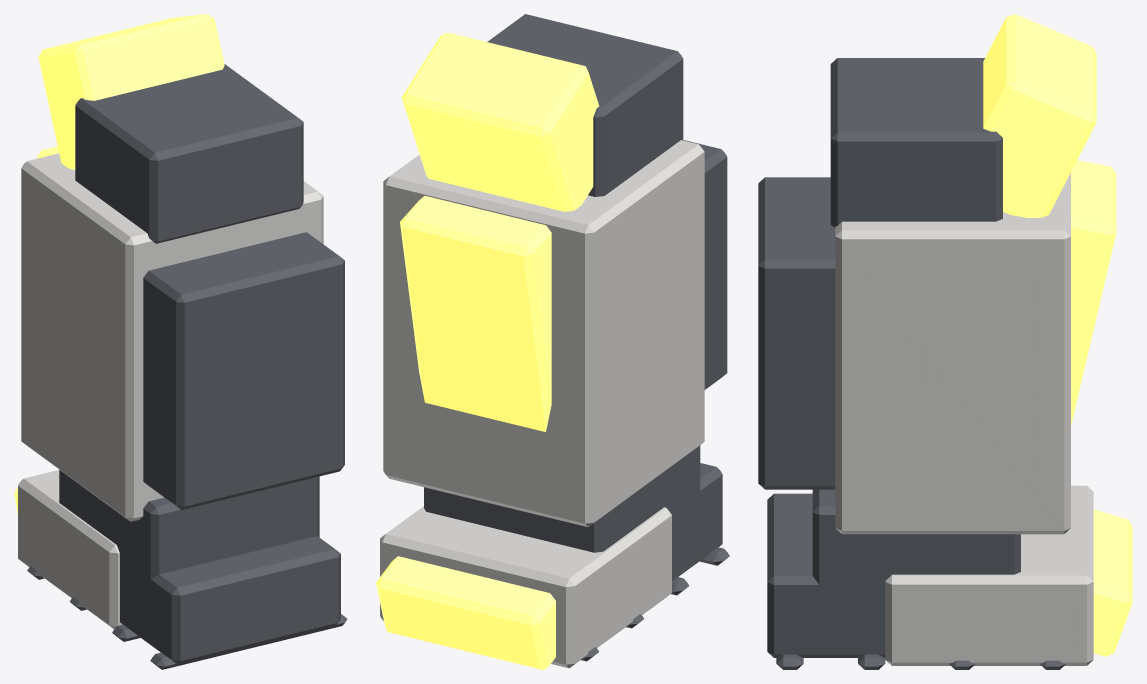
The model's file is tankhead_leg_left_lower.glb.
The picture shows the model from 3 angles, left to right: view 1: azimuth 30°, elevation 25°; view 2: azimuth 150°, elevation 25°; view 3: azimuth 270°, elevation 25°; orthographic projection. The views are drawn at different scales.
Visible parts, largest first — view 1: tankhead_leg_left_lower; view 2: tankhead_leg_left_lower; view 3: tankhead_leg_left_lower.
Part boxes in pixels (x1=…): tankhead_leg_left_lower: x1=14, y1=14, x2=347, y2=669; tankhead_leg_left_lower: x1=376, y1=14, x2=729, y2=669; tankhead_leg_left_lower: x1=758, y1=14, x2=1132, y2=669.
Bounding box in the file's own units: 0.54 × 1.4 × 0.8262.
